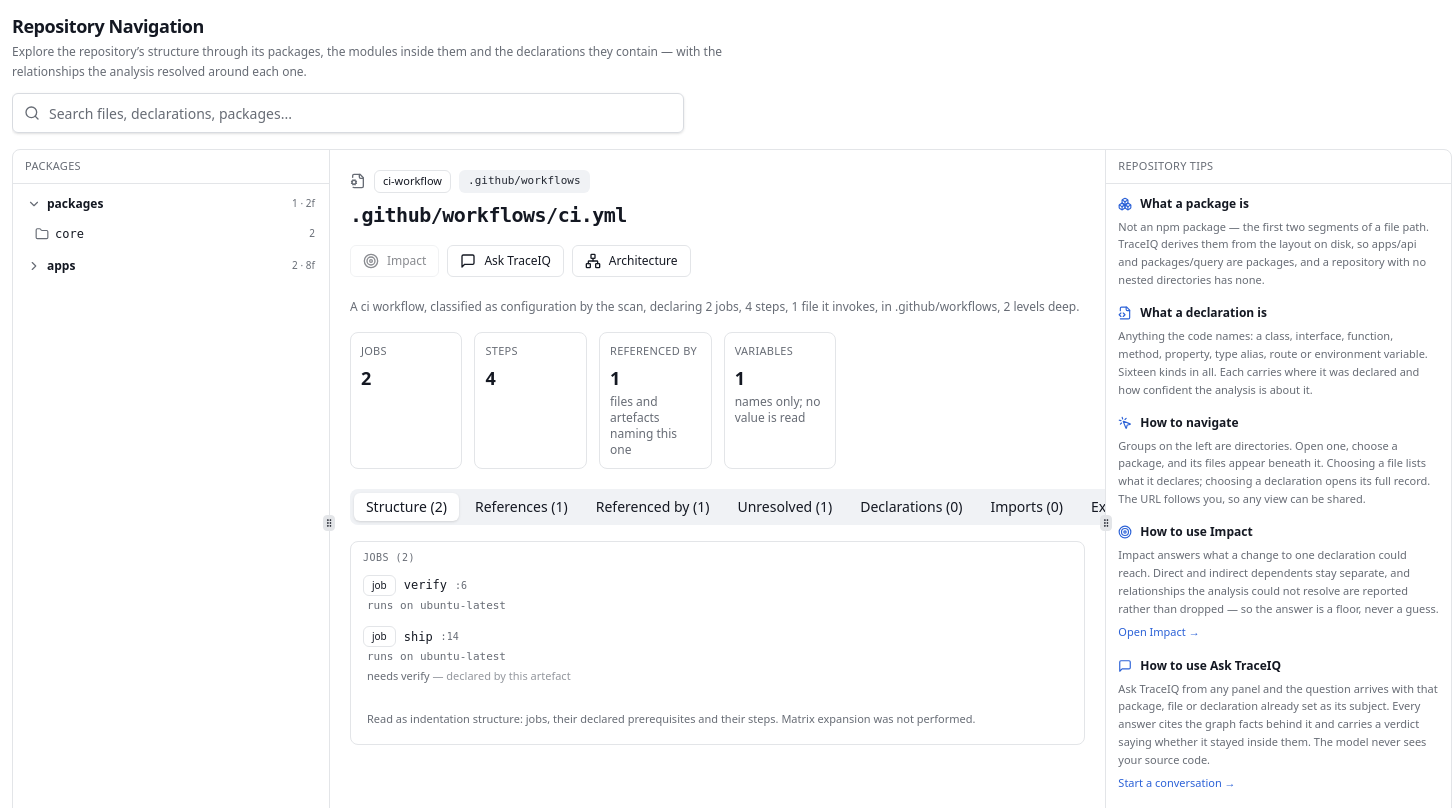
Test case: Explorer › with an artefact selected › shows what the artefact named that resolved to nothing
The width and height of the screenshot is (1452, 808).
Expected: the heading ".github/workflows/ci.yml" is shown, x1=350 y1=202 x2=627 y2=226
Press the mouse on the tab "Unresolved (1)" at [785, 506], box x1=726 y1=492 x2=844 y2=520
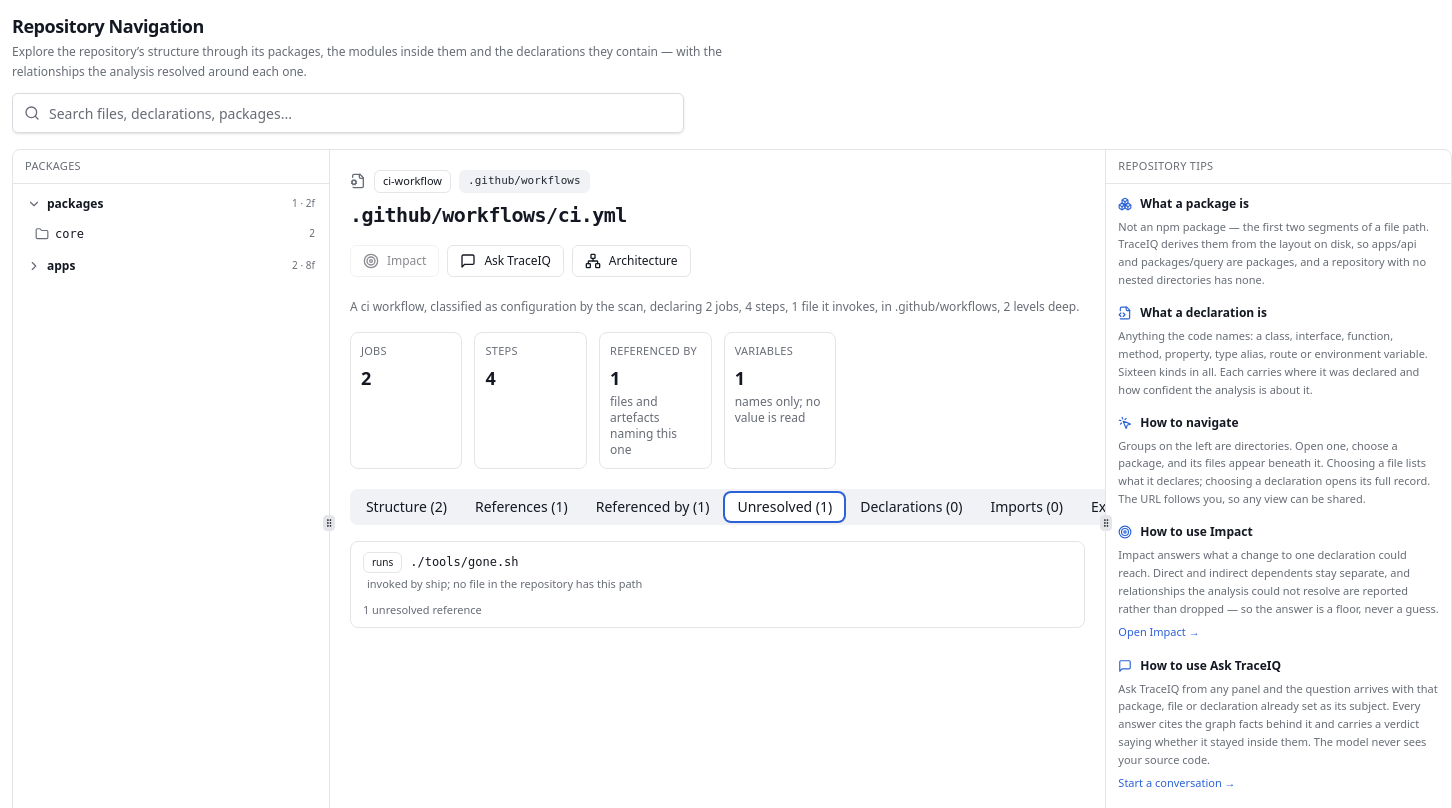
Expected: the text "./tools/gone.sh" is shown, x1=410 y1=554 x2=519 y2=570
